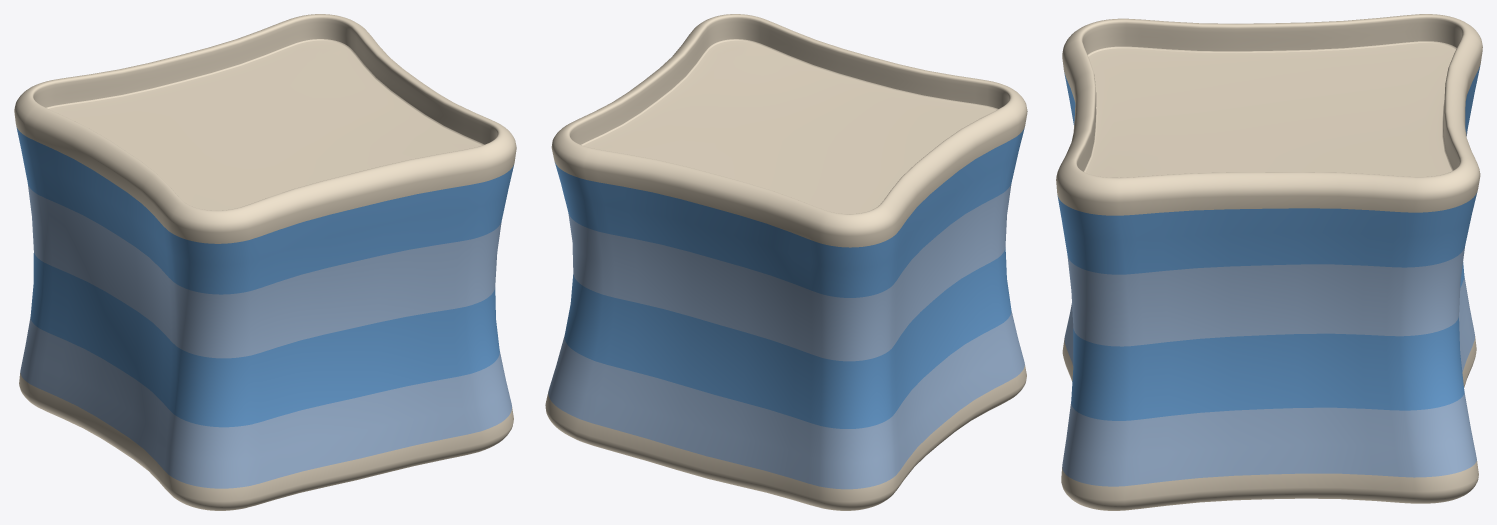
Rendered from SM_Building_06_Part_01.fbx.
3 renders of one model, left to right at view 1: azimuth 30°, elevation 25°; view 2: azimuth 150°, elevation 25°; view 3: azimuth 270°, elevation 25°, orthographic. The views are drawn at different scales.
Visible parts, largest first — view 1: SM_Building_06_Part_01; view 2: SM_Building_06_Part_01; view 3: SM_Building_06_Part_01.
Boxes of the visible parts, <box> form: SM_Building_06_Part_01: <box>14,14,516,510</box>; SM_Building_06_Part_01: <box>545,14,1027,510</box>; SM_Building_06_Part_01: <box>1056,14,1482,510</box>.
Bounding box in the file's own units: 6213 × 5408 × 6031.
